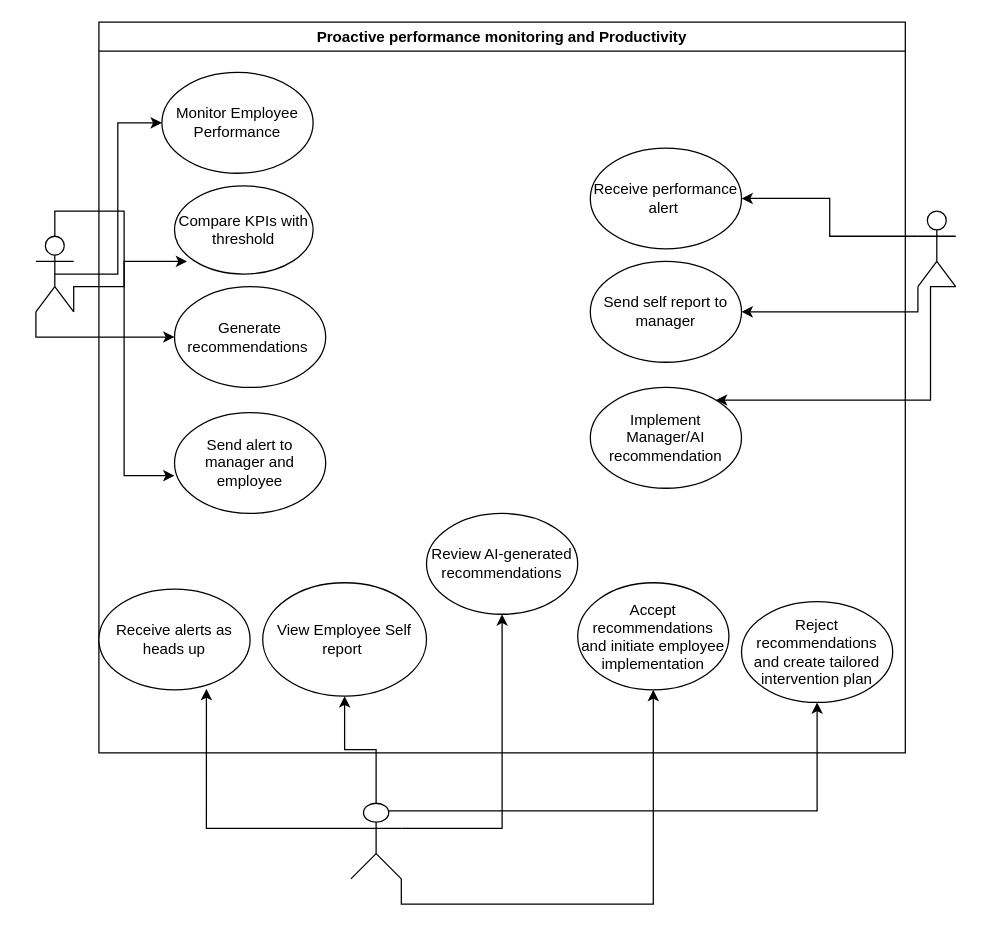
Image size: 992x936. Some labels were removed from this diagram. The shapes that lost their labels are listed below. From the top down, each one's centre as x and y in pixels, then its label:
At point 936,248: "Employee".
At point 54,273: "AI system".
At point 375,840: "Manager".
